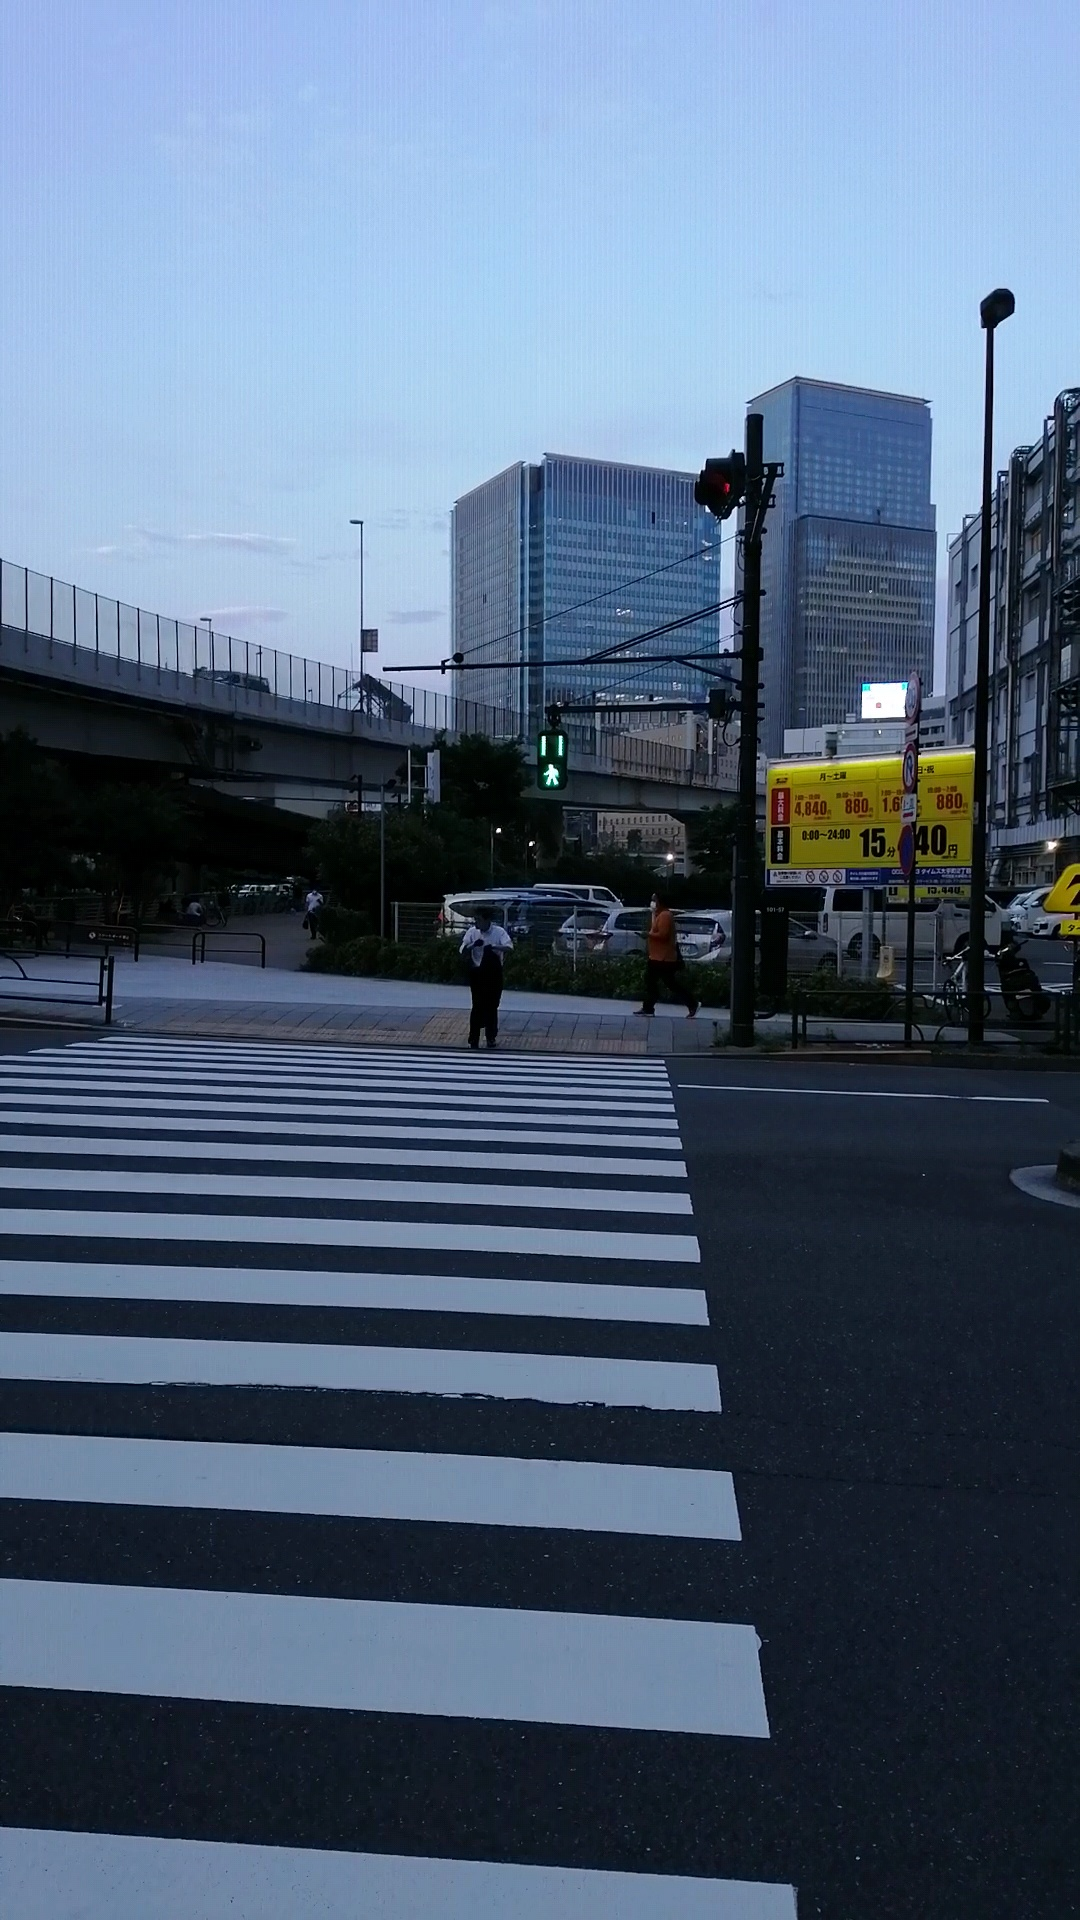green: (535, 729, 568, 793)
